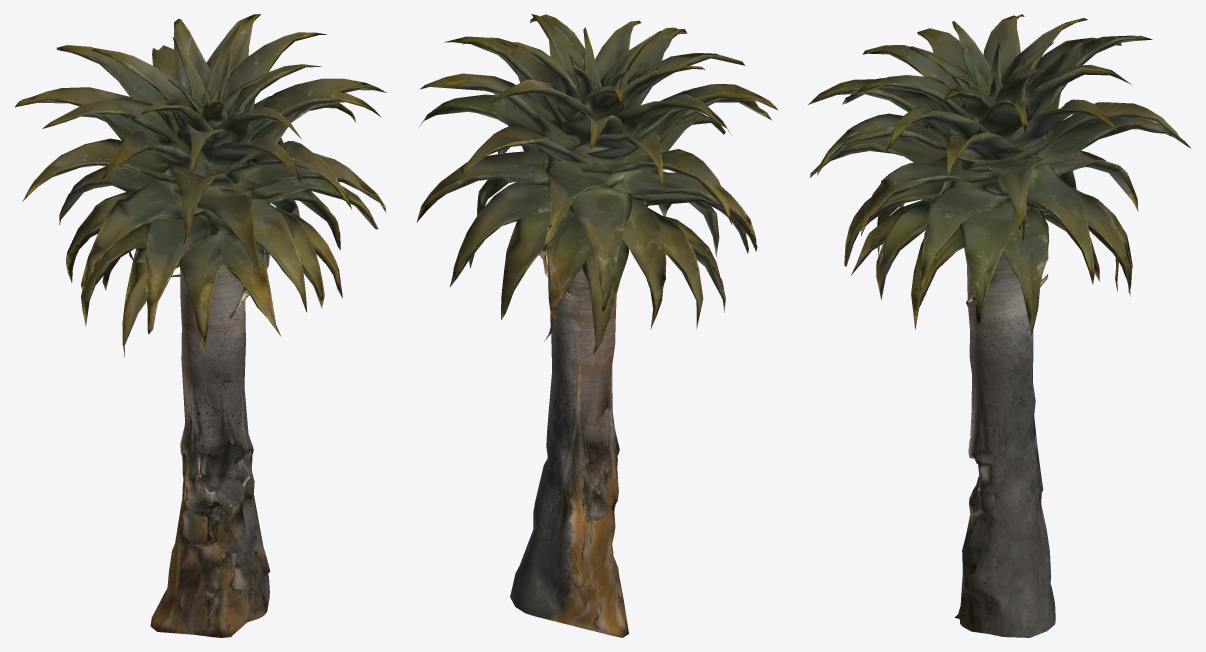
File: tree_a.glb
The picture shows the model from 3 angles, left to right: view 1: azimuth 30°, elevation 25°; view 2: azimuth 150°, elevation 25°; view 3: azimuth 270°, elevation 25°; orthographic projection.
Visible parts, largest first — view 1: quiver_tree_02; view 2: quiver_tree_02; view 3: quiver_tree_02.
Part boxes in pixels (bbox=[...]): quiver_tree_02: bbox=[15, 14, 386, 637]; quiver_tree_02: bbox=[416, 14, 777, 637]; quiver_tree_02: bbox=[808, 14, 1190, 637].
Bounding box in the file's own units: 0.8646 × 1.46 × 0.8805.
Materials: 1 (1 with a texture image).
